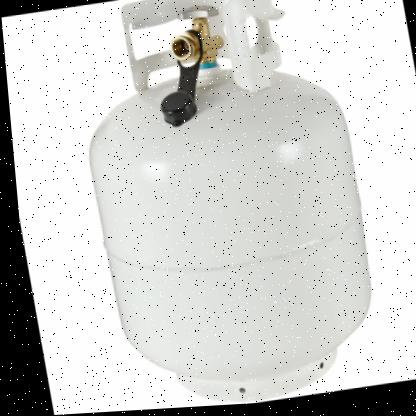gas-tank: (49, 0, 398, 413)
